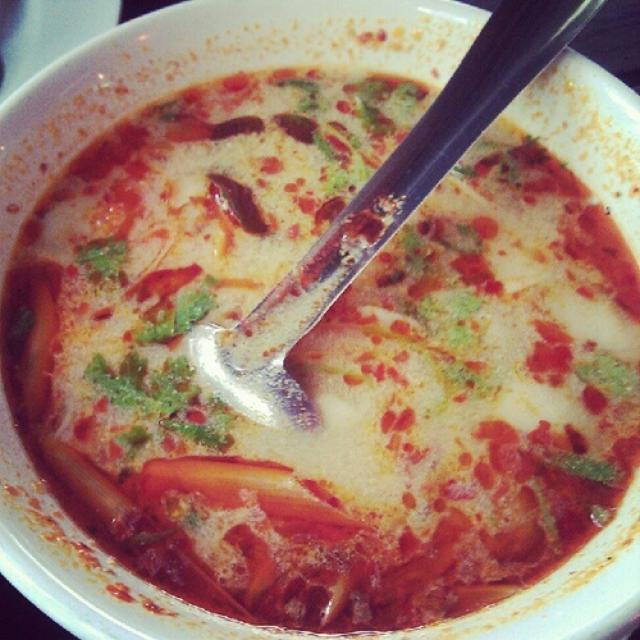汤锅炖物: (18, 37, 623, 623)
